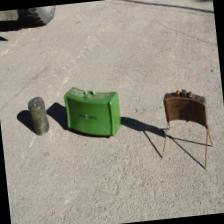MOH-50: (57, 76, 126, 152), (158, 85, 214, 152)
